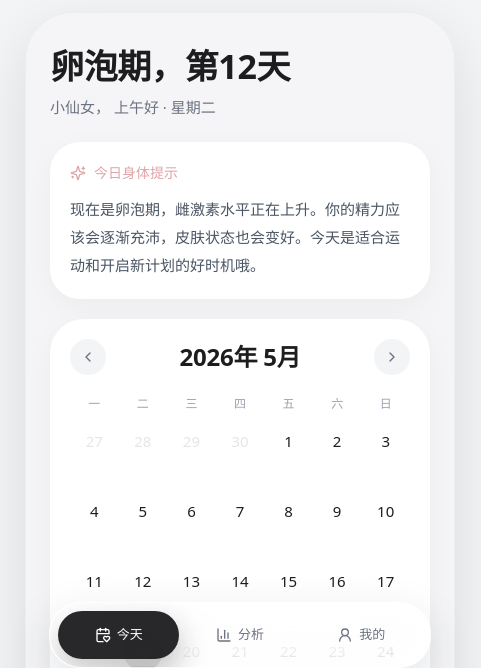
Test: Half Moon app › promotes the period boundary prompt with a default time
The image size is (481, 668).
Click the button named "5月10日" at (386, 524), box [361,491,410,557]
(page scrolled)
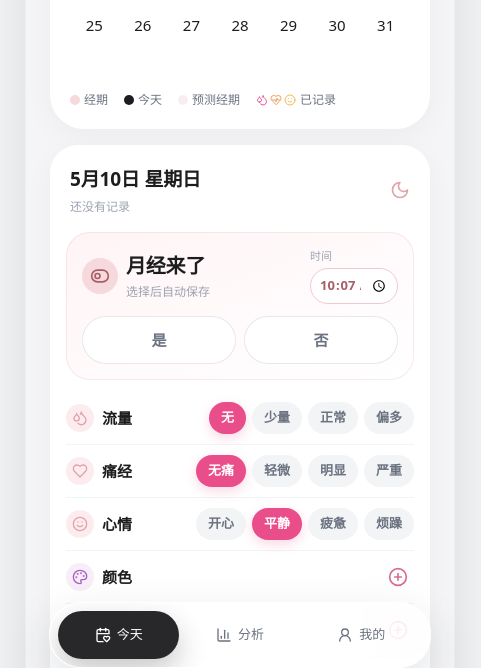
Check: the heading "月经来了" is shown, box [126,251,210,281]
Click the button "是" at (159, 340), box [82,316,236,364]
(page scrolled)
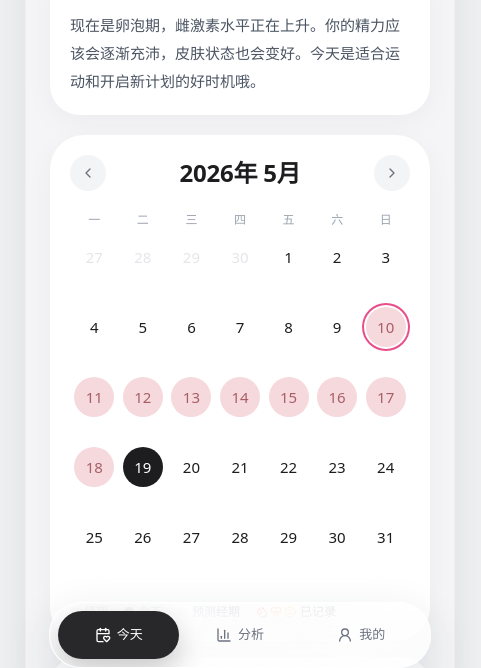
Check: the button named "5月10日 经期开始" is shown, box [361,307,410,373]
